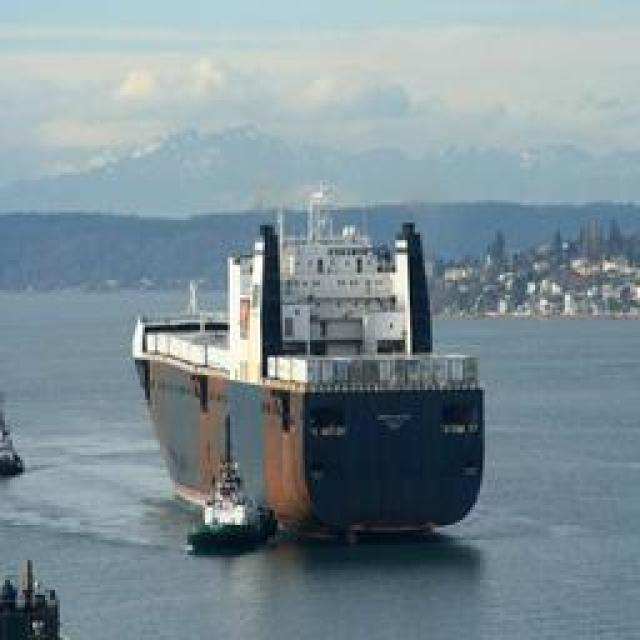Ship: (131, 199, 496, 552)
